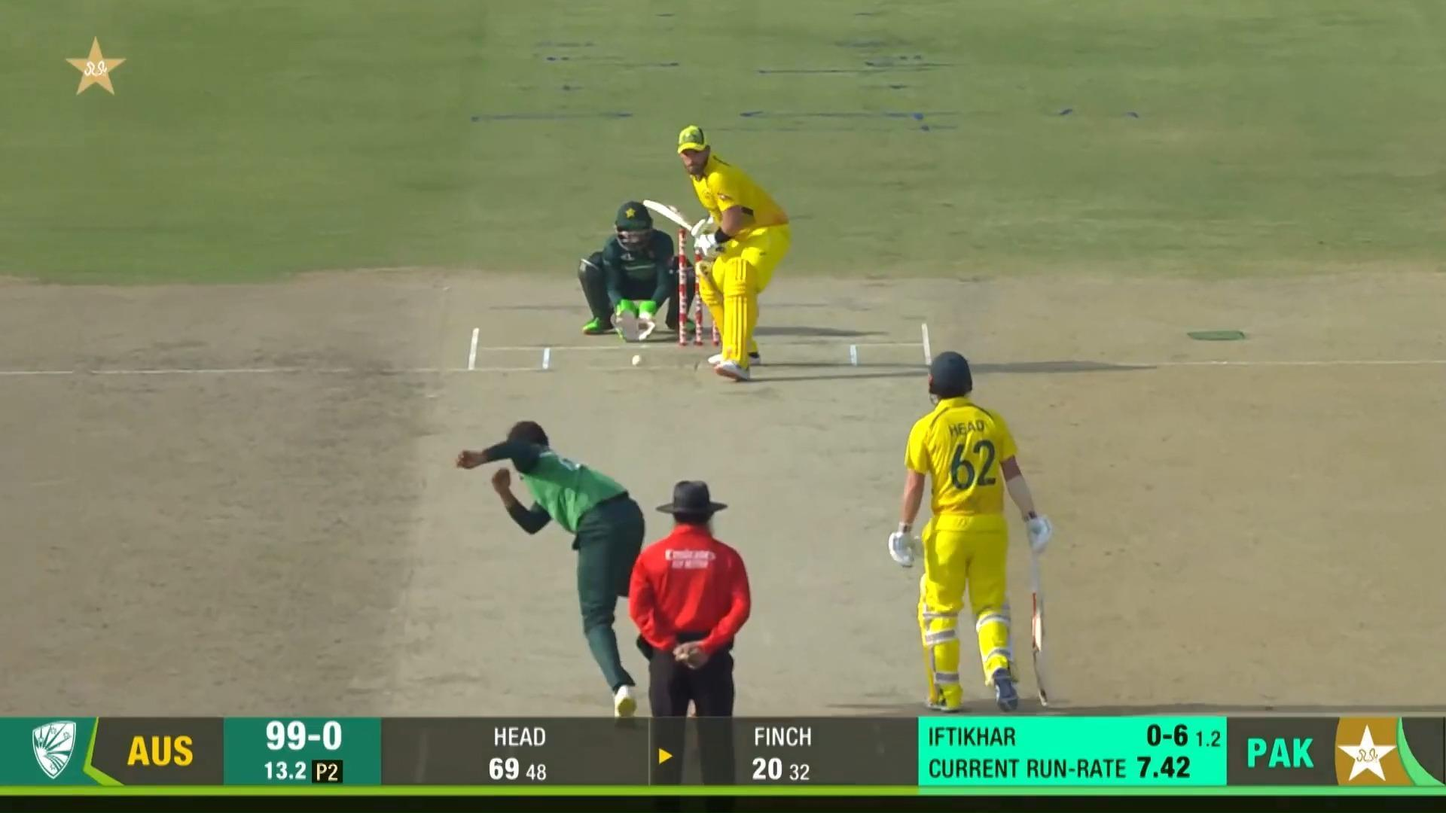BM 1: (642, 125, 790, 381)
BO: (456, 418, 646, 715)
